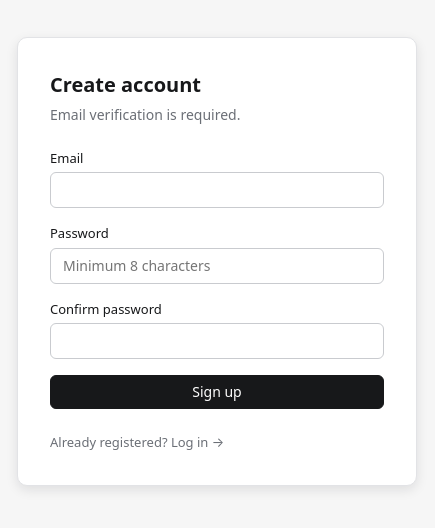
signup validation › blocks submit on short password and shows an inline error
Type "alice@example.com" into the field labelled "Email" at (217, 190), box [50, 172, 384, 208]
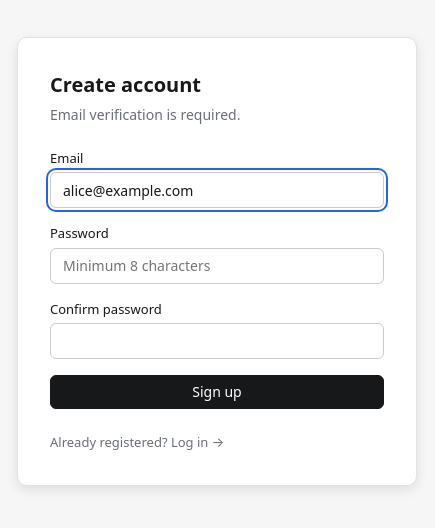
Type "short" into the password field labelled "Password" at (217, 266), box [50, 248, 384, 284]
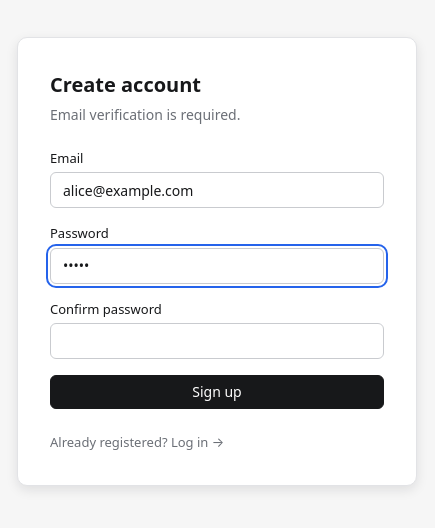
Type "short" into the password field labelled "Confirm password" at (217, 341), box [50, 323, 384, 359]
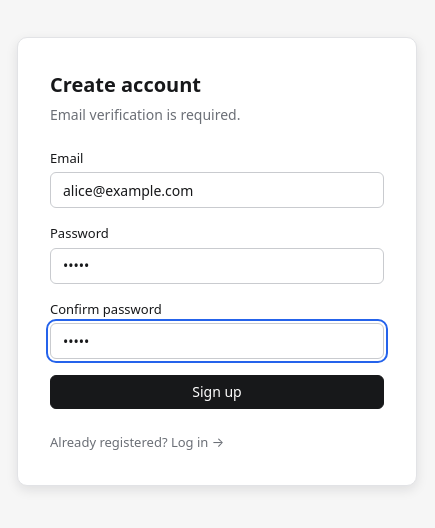
Click the button "Sign up" at (217, 392), box [50, 375, 384, 409]
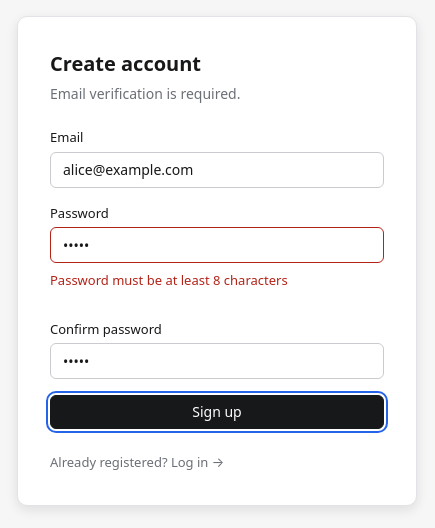
Now the text "Password must be at least 8 characters" is shown, box [50, 271, 288, 289]
